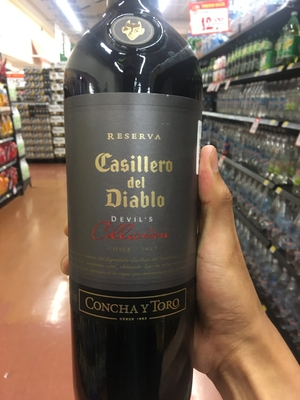casillero del diablo devils collection rojo: (62, 13, 202, 400)
